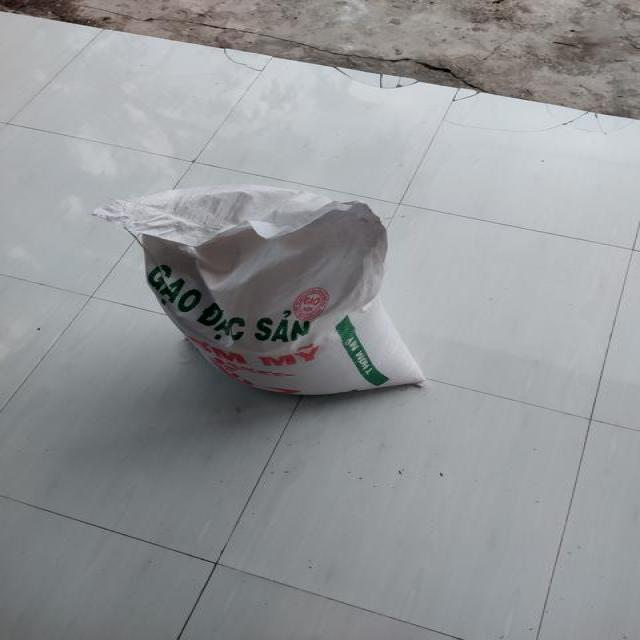gunny_bag: (95, 185, 425, 394)
